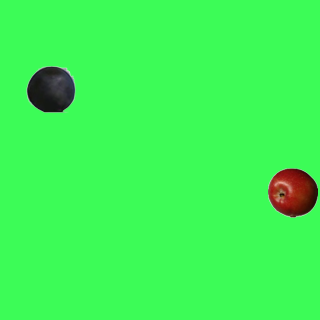Apple Braeburn: (267, 167, 317, 217)
Grape Blue: (25, 63, 75, 113)
